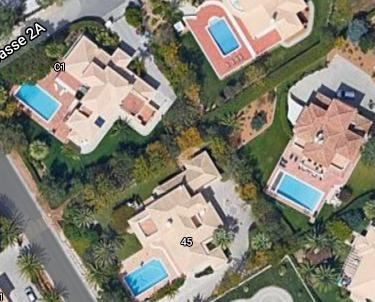pool: (274, 172, 324, 214), (13, 82, 61, 122), (122, 258, 169, 298), (206, 16, 240, 58)
